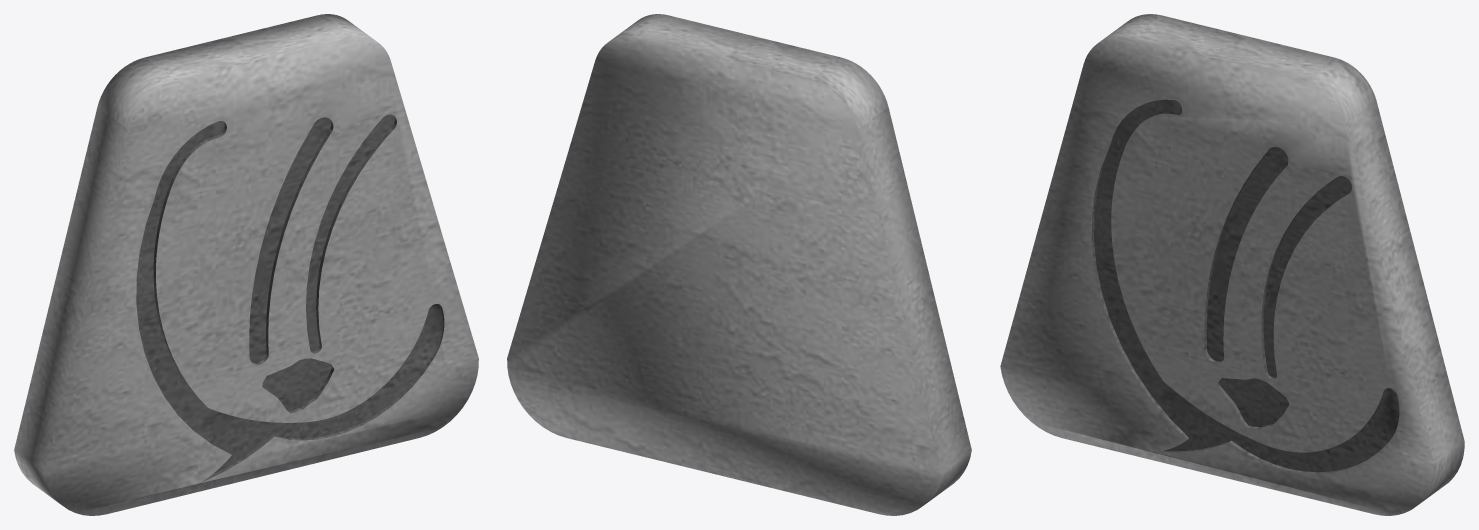
3 views of the same model, side by side, from view 1: azimuth 30°, elevation 25°; view 2: azimuth 150°, elevation 25°; view 3: azimuth 330°, elevation 25° (orthographic).
Visible parts, largest first — view 1: SketchUp (×5); view 2: SketchUp; view 3: SketchUp (×5).
Part boxes in pixels (box(x1,y1,x2,y2)): SketchUp (×5): box(14, 14, 478, 515); SketchUp: box(507, 14, 971, 515); SketchUp (×5): box(1000, 14, 1464, 515).
Size of the model in its own units: 13.73 by 1.69 by 12.62.
Materials: 2 (2 with a texture image).
